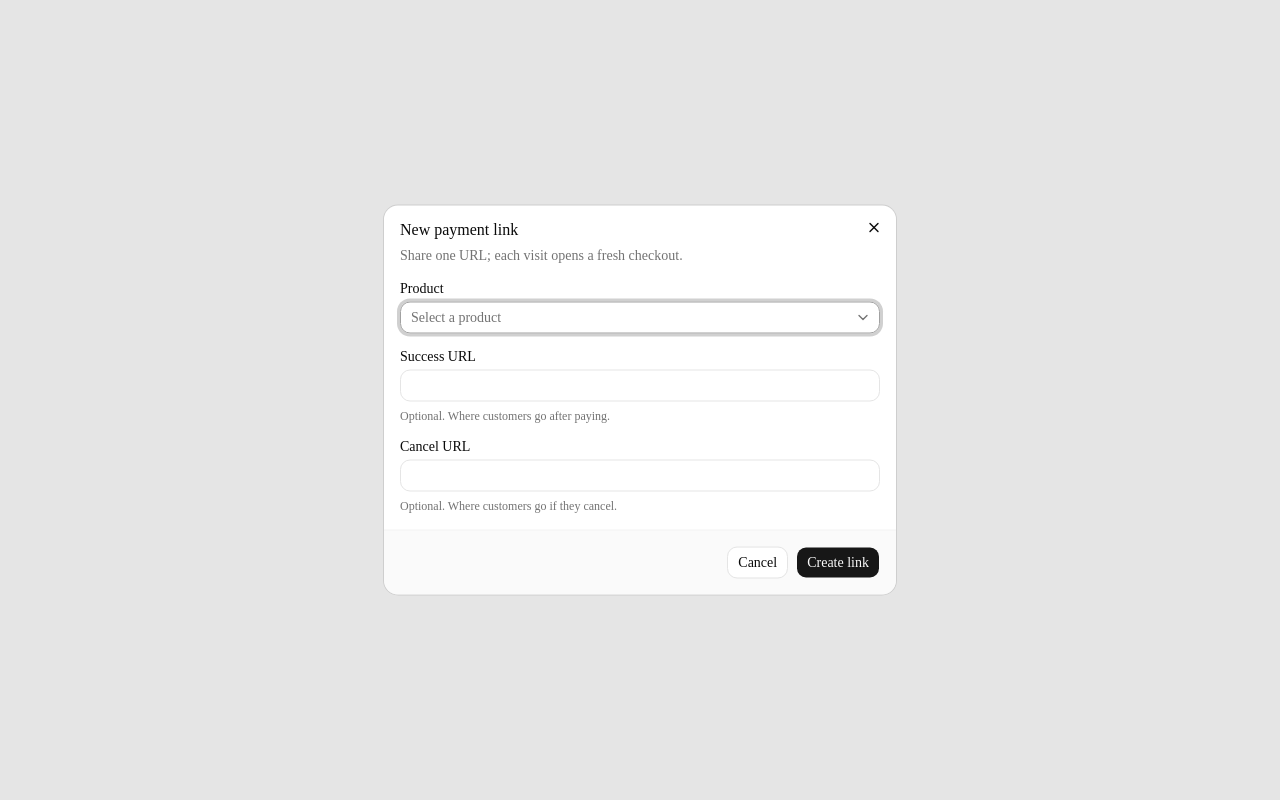
Test case: PaymentLinkFormDialog › should_require_product_when_submitting
The image size is (1280, 800).
Click the button "Create link".
click(838, 562)  # box [796,546,880,578]
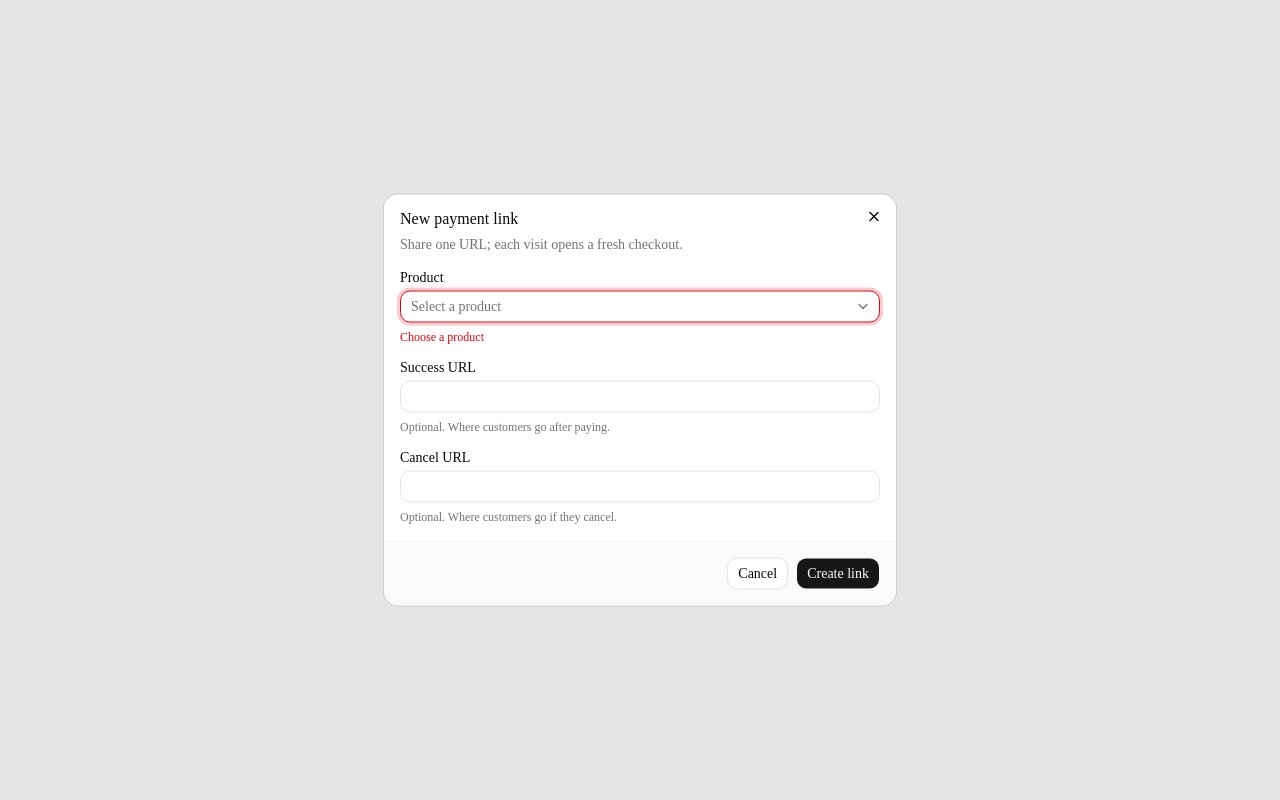
Expected: the text "Choose a product" is shown, [400,330,484,344]
